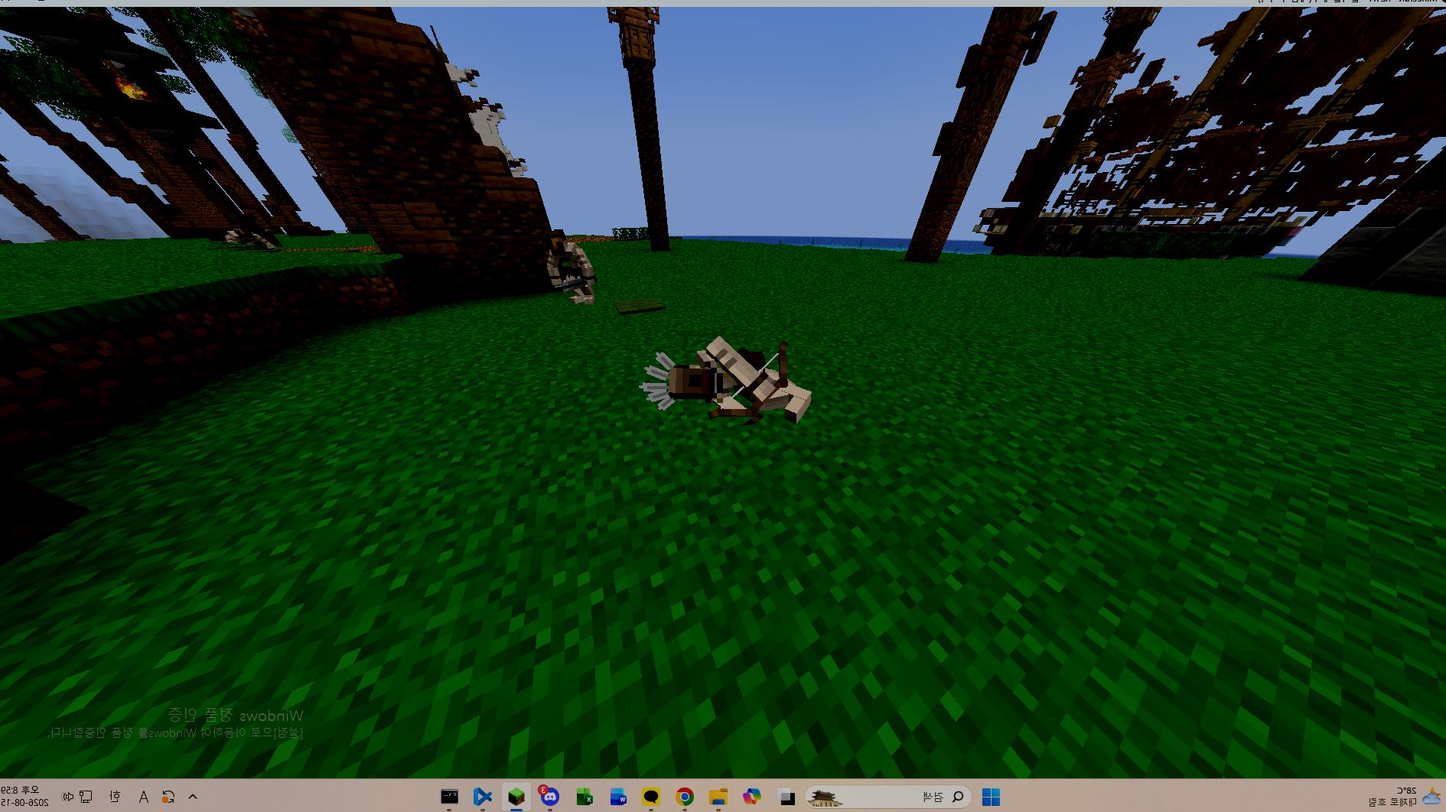bow_indian: (588, 317, 841, 445)
